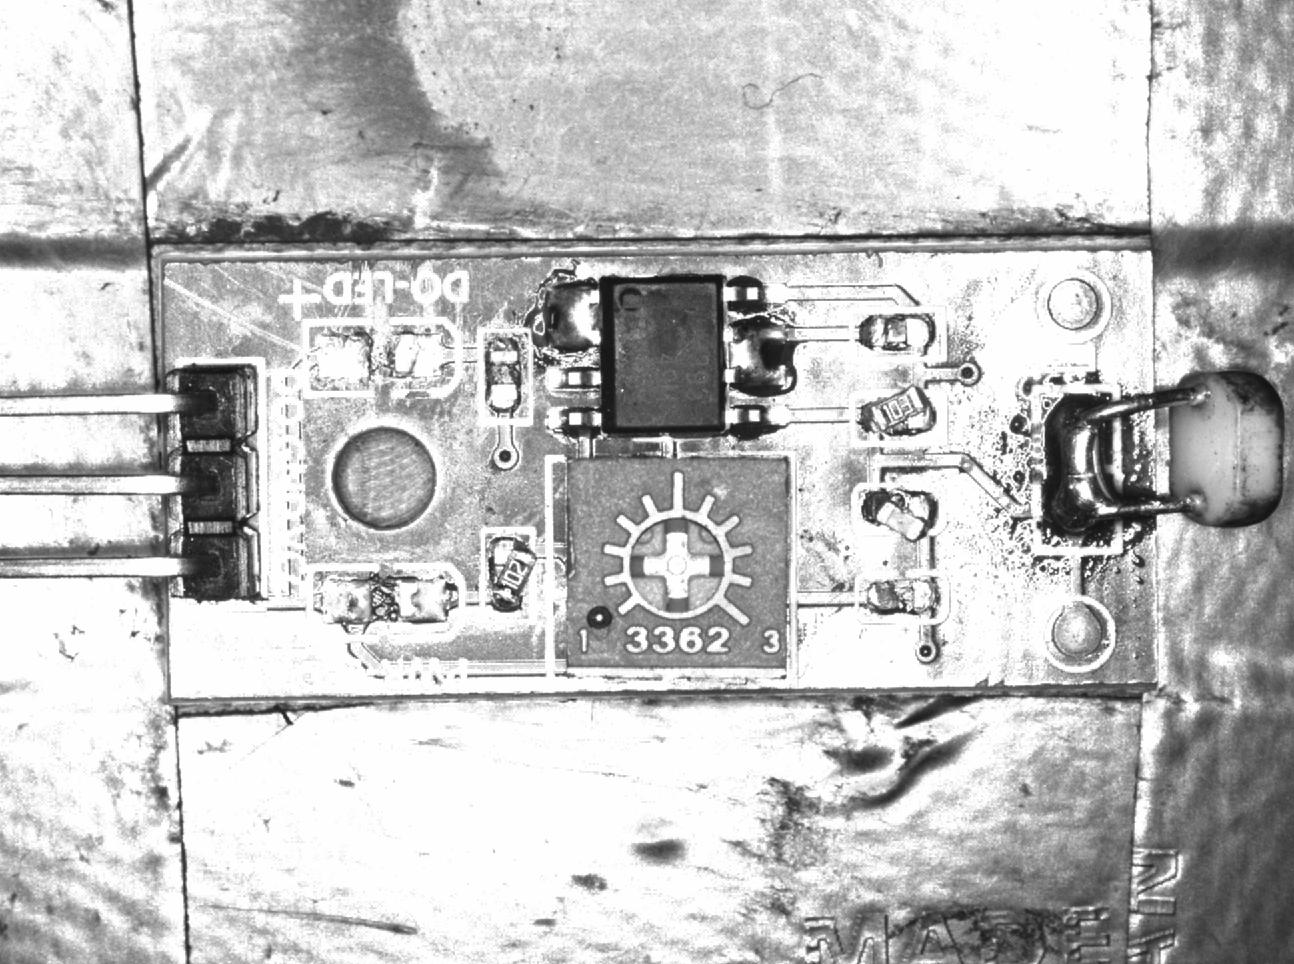bridge: (1037, 389, 1124, 554), (728, 318, 801, 395), (543, 280, 601, 358)
lifted: (853, 483, 944, 544), (851, 388, 945, 443), (481, 530, 539, 619)
miss: (850, 308, 944, 360), (479, 326, 528, 424), (855, 576, 945, 620)
